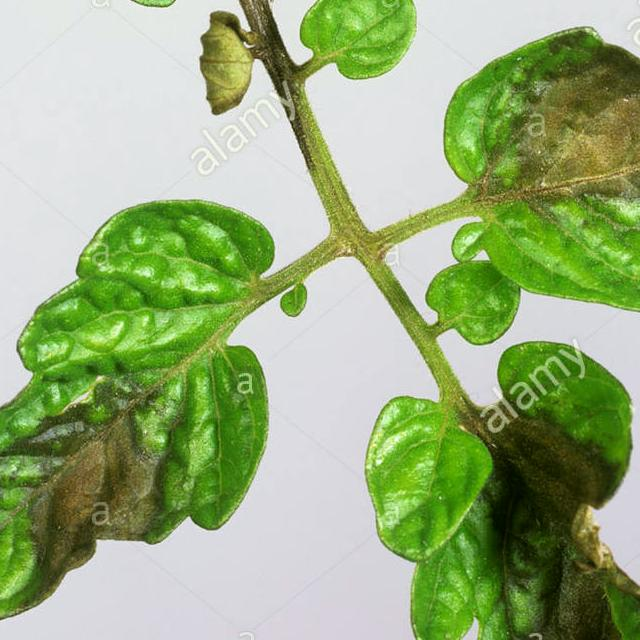Tomato leaf late blight: (0, 181, 303, 640), (350, 323, 640, 640), (430, 23, 640, 349)
